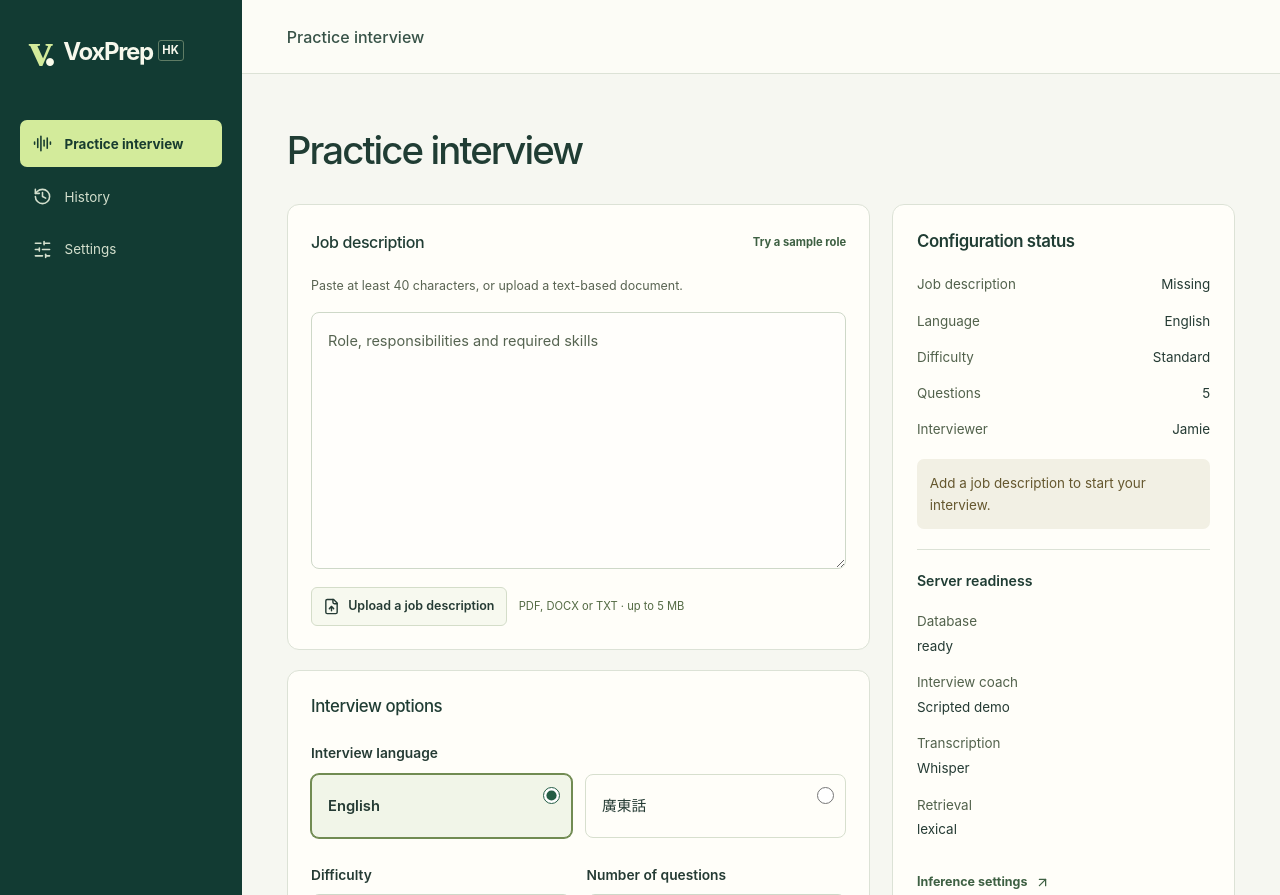
simplified navigation › opens plain history through its own navigation tab
Step 1. Click the link "History" → click(71, 197), box [33,187,110,206]
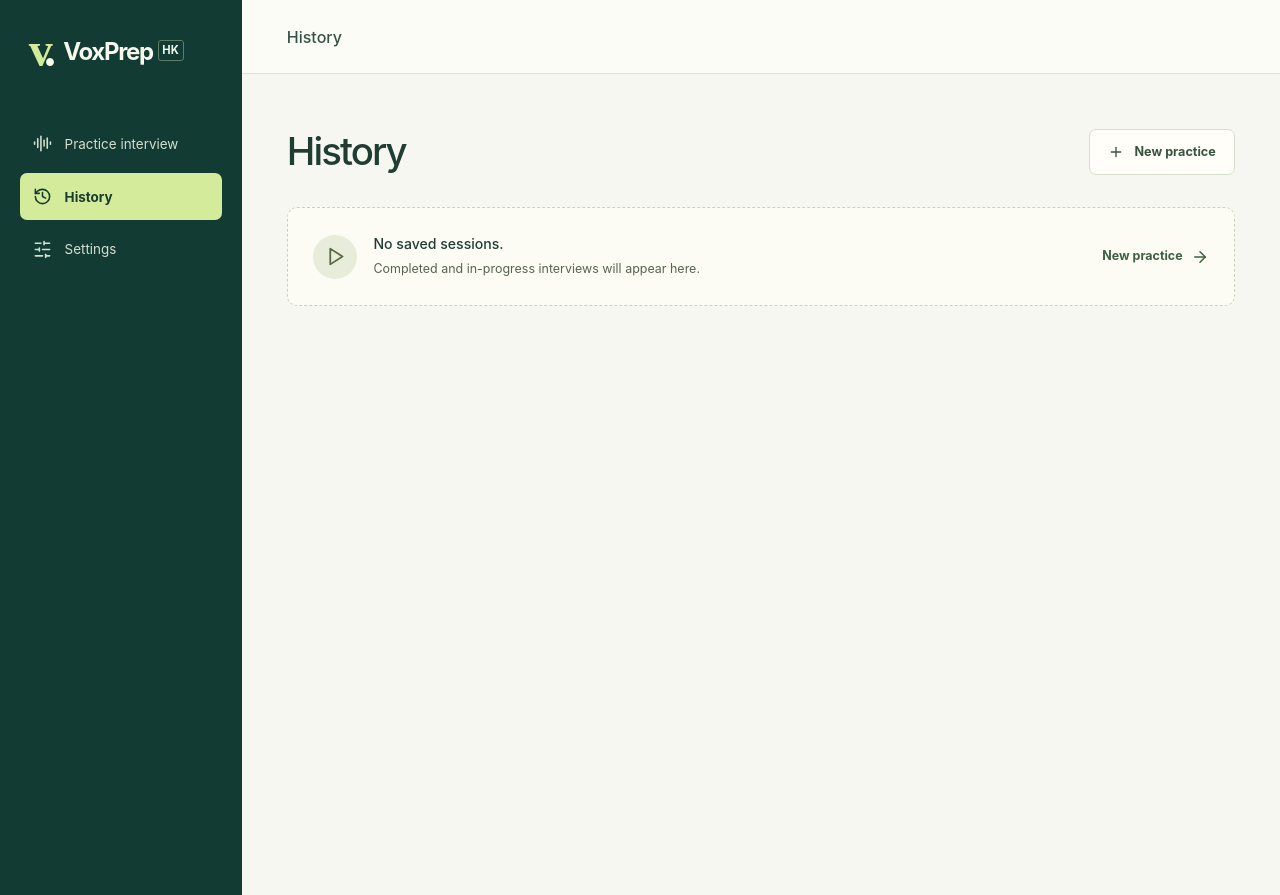
Expected: the heading "History" is shown, [287,130,406,174]
Expected: the heading "No saved sessions." is shown, [373,235,504,252]
